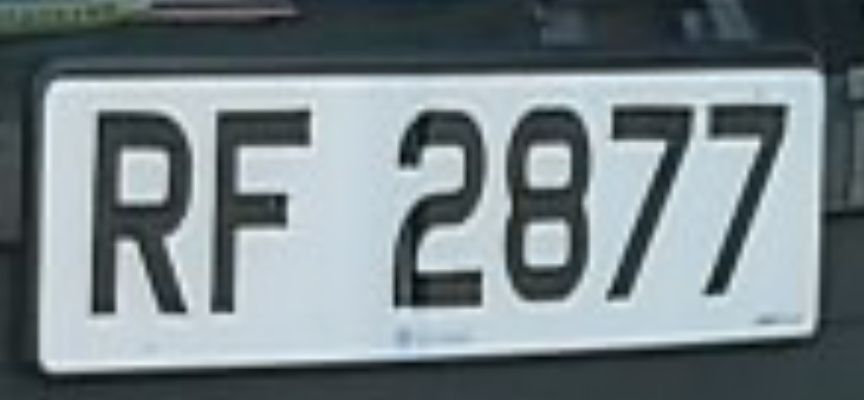2: (379, 80, 508, 335)
7: (593, 86, 706, 311), (690, 90, 803, 313)
8: (491, 87, 615, 315)
F: (198, 74, 334, 348)
R: (67, 84, 212, 348)
